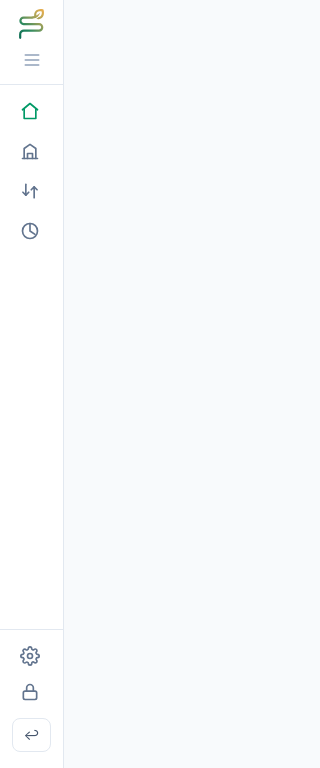
Test: Layout sidebar › el toggle se puede volver a expandir y anuncia su estado
The image size is (320, 768).
Click the button named "expandir menú": (32, 60) [16,44,48,76]
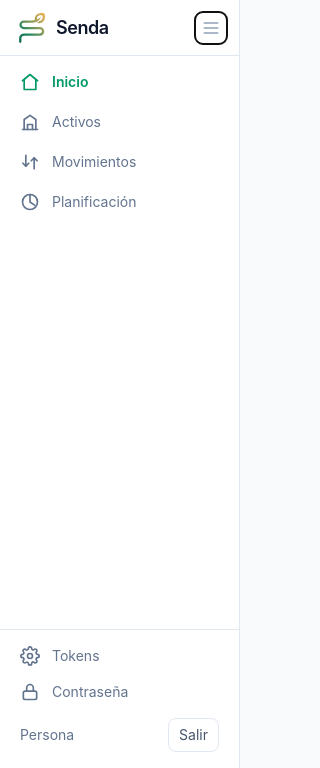
Expected: the button named "colapsar menú" is expanded, [195,12,227,44]
